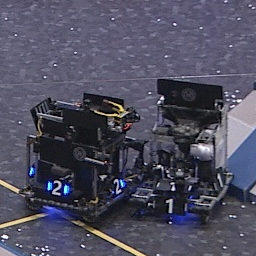Blue: (45, 179, 70, 196), (108, 179, 126, 194)
Dead: (151, 195, 189, 218), (156, 179, 194, 194)
Robot: (20, 88, 142, 225), (137, 78, 237, 225)
